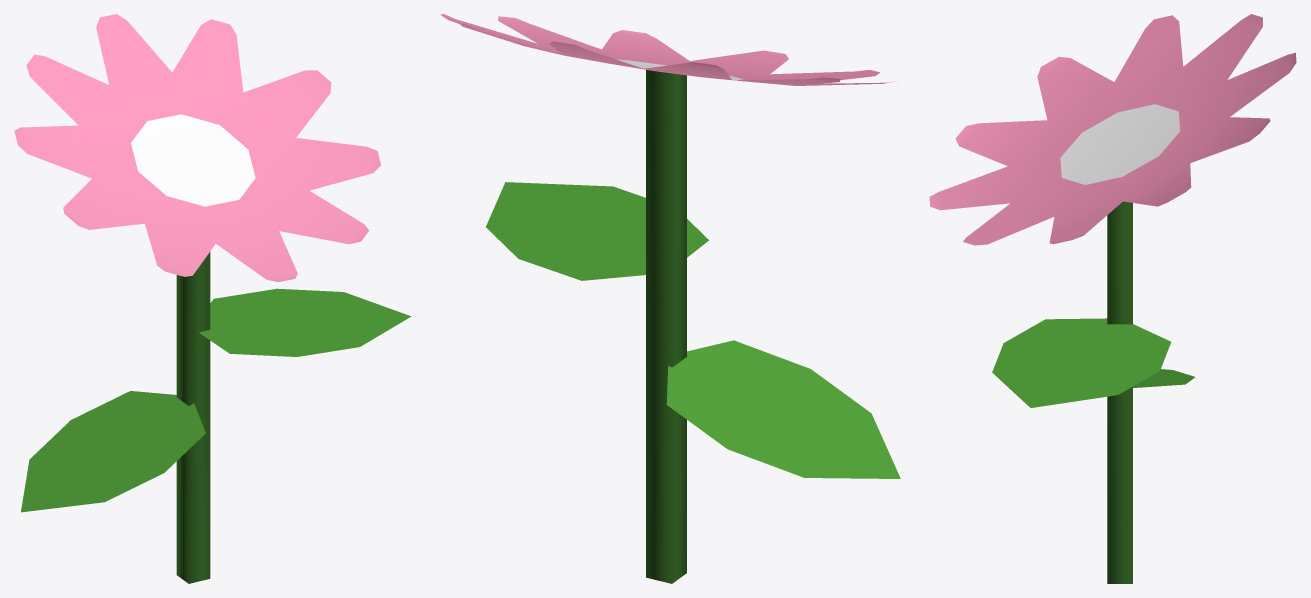
File: Flower_19.fbx
3 views of the same model, side by side, from view 1: azimuth 30°, elevation 25°; view 2: azimuth 150°, elevation 25°; view 3: azimuth 270°, elevation 25° (orthographic). The views are drawn at different scales.
Parts seen in each view (by area): view 1: Flower_19; view 2: Flower_19; view 3: Flower_19.
Boxes of the visible parts, bbox=[...] form: Flower_19: bbox=[14, 14, 411, 583]; Flower_19: bbox=[440, 14, 900, 583]; Flower_19: bbox=[929, 14, 1296, 583].
Bounding box in the file's own units: 45.81 × 61.14 × 39.03.
